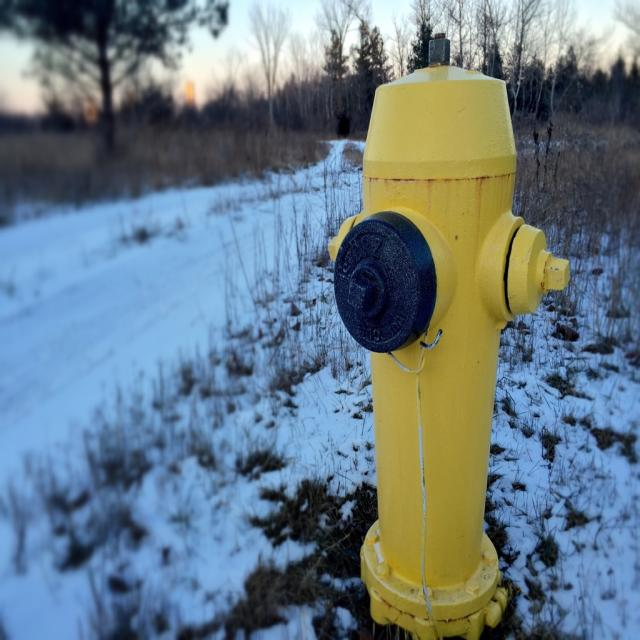fire_hydrant: (329, 28, 573, 640), (327, 31, 571, 640)
